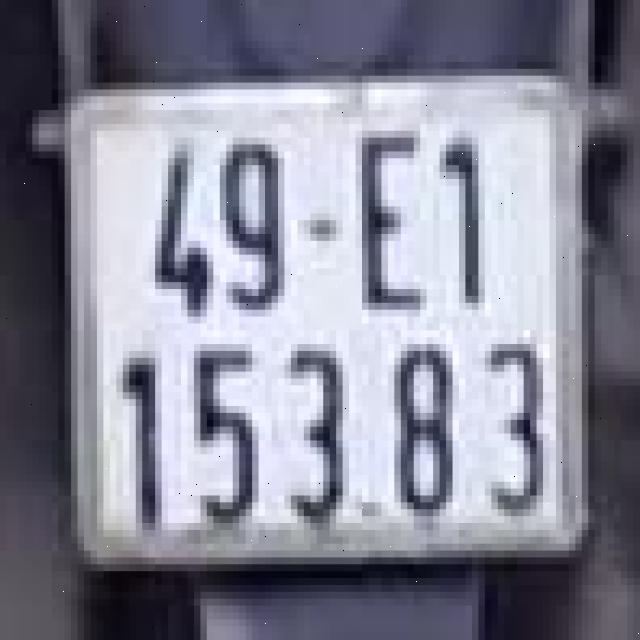1: (107, 340, 171, 526), (436, 127, 494, 313)
3: (278, 334, 356, 533), (482, 330, 552, 516)
4: (139, 131, 223, 323)
5: (172, 327, 268, 526)
8: (382, 337, 466, 530)
9: (230, 134, 294, 327)
E: (346, 113, 436, 327)
